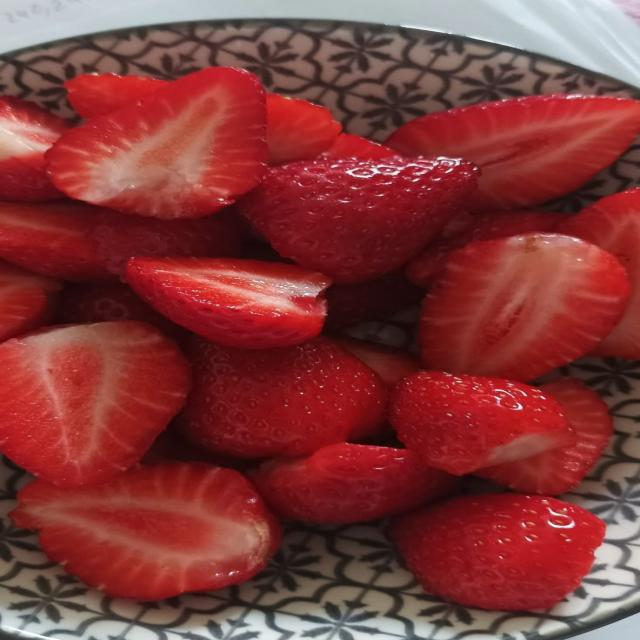strawberry sliced: (11, 463, 279, 600), (47, 68, 267, 218), (0, 321, 189, 486), (420, 234, 629, 381), (238, 158, 477, 283), (386, 95, 639, 210), (177, 337, 386, 458), (391, 495, 606, 610), (390, 372, 574, 475), (127, 258, 330, 348), (251, 444, 457, 523), (476, 379, 613, 495), (560, 189, 639, 359), (405, 211, 566, 288), (89, 210, 242, 276), (0, 203, 115, 281), (56, 283, 187, 342), (0, 96, 66, 201), (326, 272, 423, 330), (141, 426, 259, 471), (267, 94, 341, 164), (333, 336, 420, 391), (0, 262, 60, 341), (65, 74, 168, 118), (334, 336, 420, 388), (322, 133, 399, 159)
